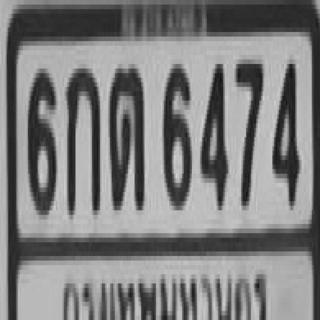A01: (66, 64, 98, 210)
A21: (108, 64, 143, 206)
N04: (198, 59, 226, 206), (271, 55, 297, 201)
N06: (162, 59, 190, 206), (26, 64, 54, 210)
N07: (234, 57, 262, 203)
P04: (55, 254, 278, 320)
